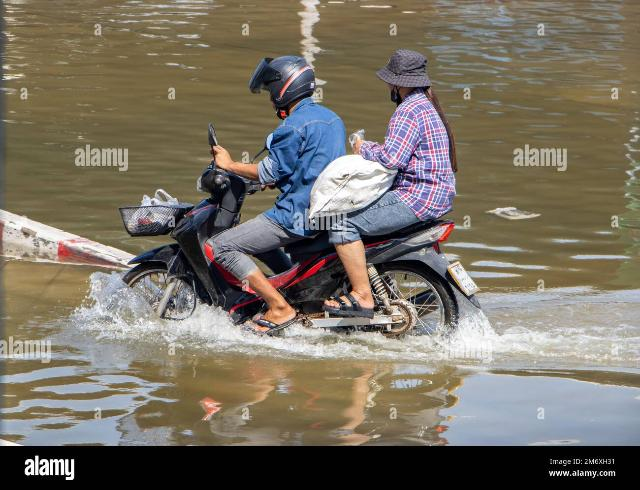helm: (252, 56, 317, 111)
motor: (123, 122, 486, 350)
non-helm: (377, 51, 434, 98)
